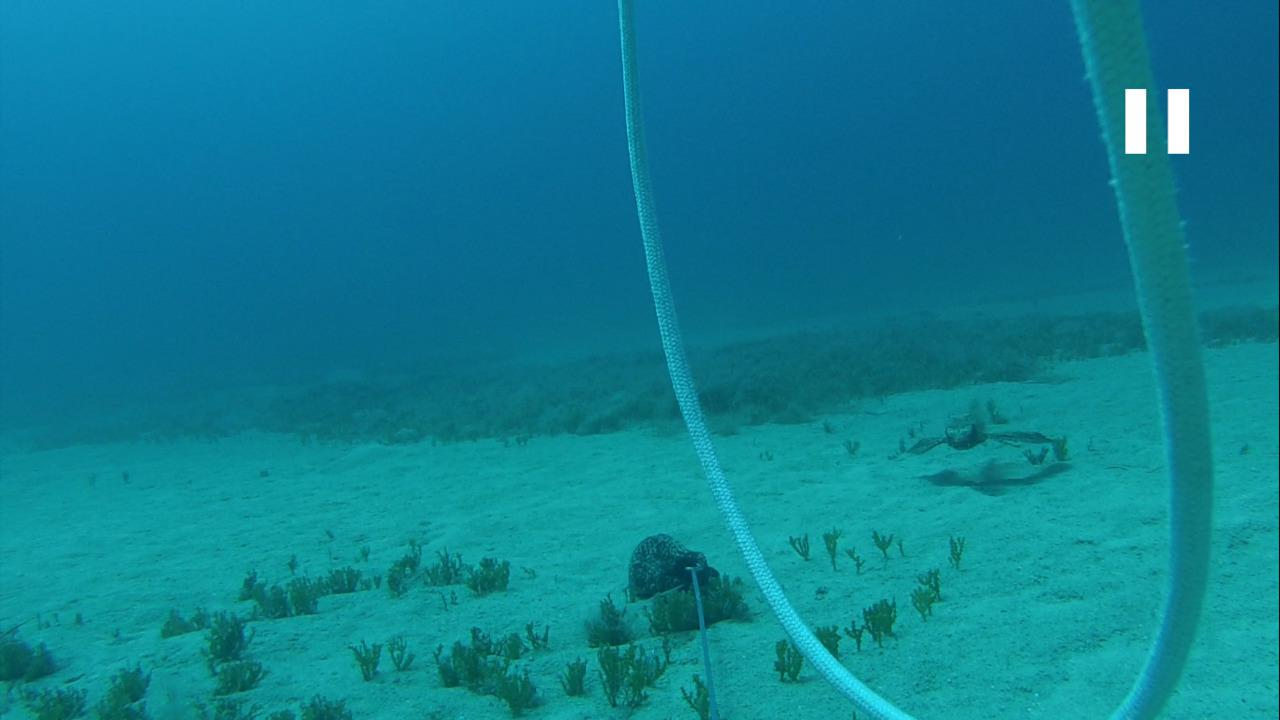dactylopterus: (896, 390, 1069, 463)
